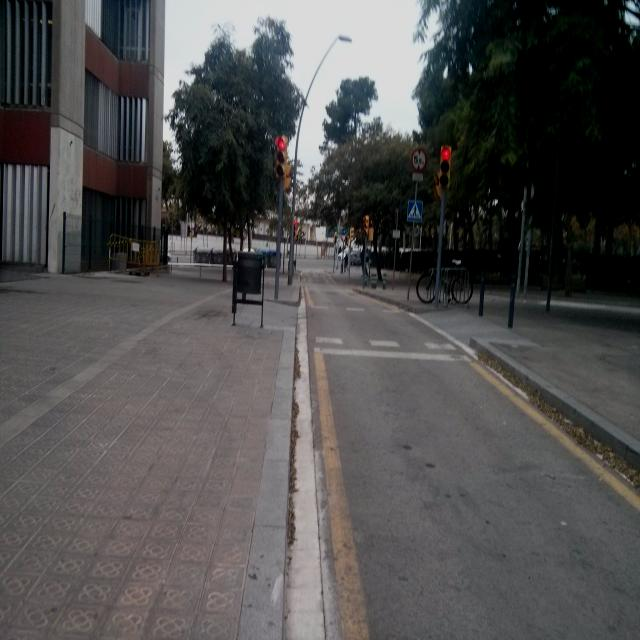bike: (416, 260, 473, 305)
